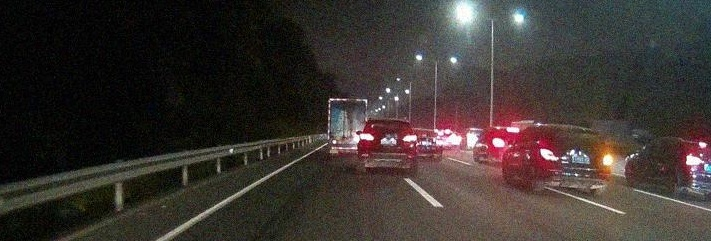L_light: (540, 148, 559, 162), (360, 133, 374, 141)
R_light: (601, 152, 613, 166), (402, 135, 416, 142)
T_light: (567, 129, 581, 133), (386, 120, 394, 122)
night-no: (535, 124, 614, 193), (360, 119, 418, 174)
